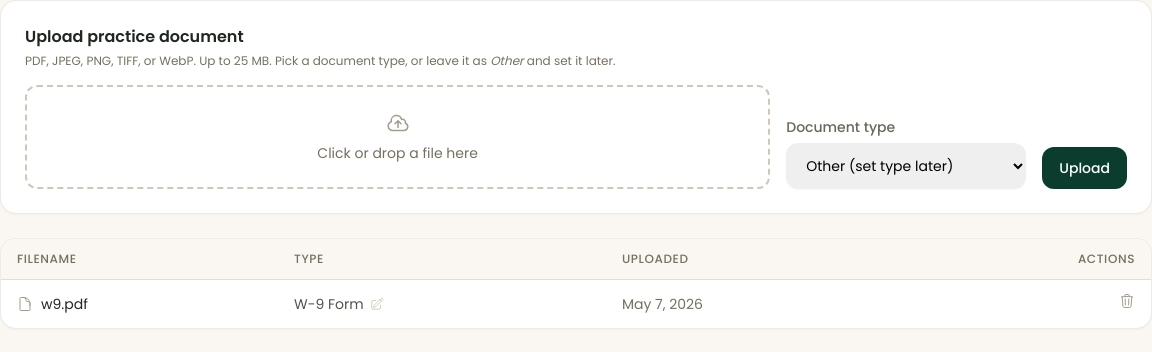
Scenario: PracticeDocumentsTab › document list rendering + inline edit › cancel button reverts the edit without firing PATCH
Step 1. Click the button "W-9 Form" → (339, 304), box x1=294 y1=294 x2=384 y2=314
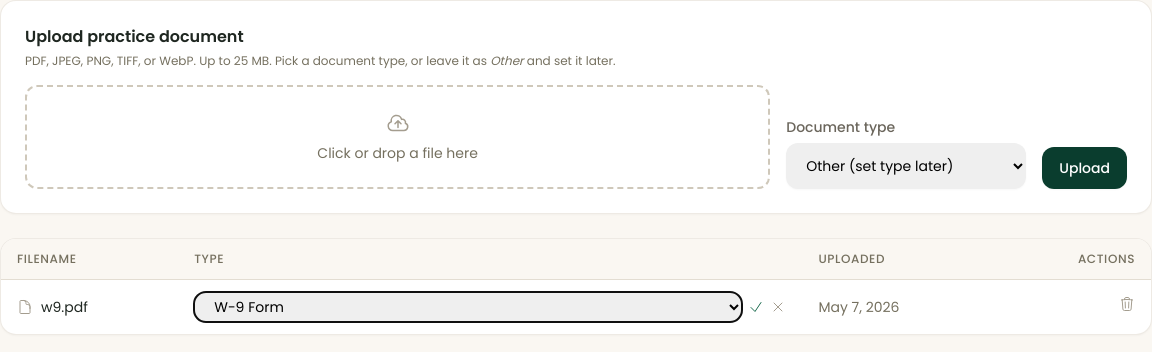
Step 2. Click the button named "cancel" → (778, 307), box x1=770 y1=299 x2=786 y2=315
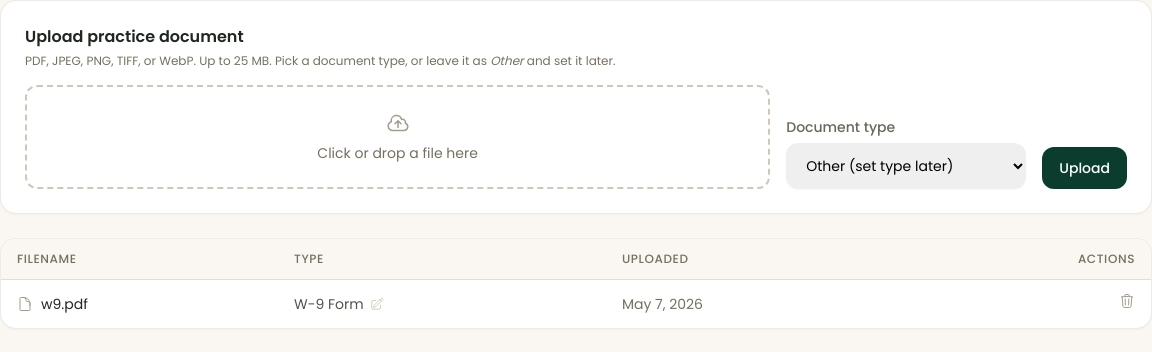
Check: the button "W-9 Form" is shown, box x1=294 y1=294 x2=384 y2=314
